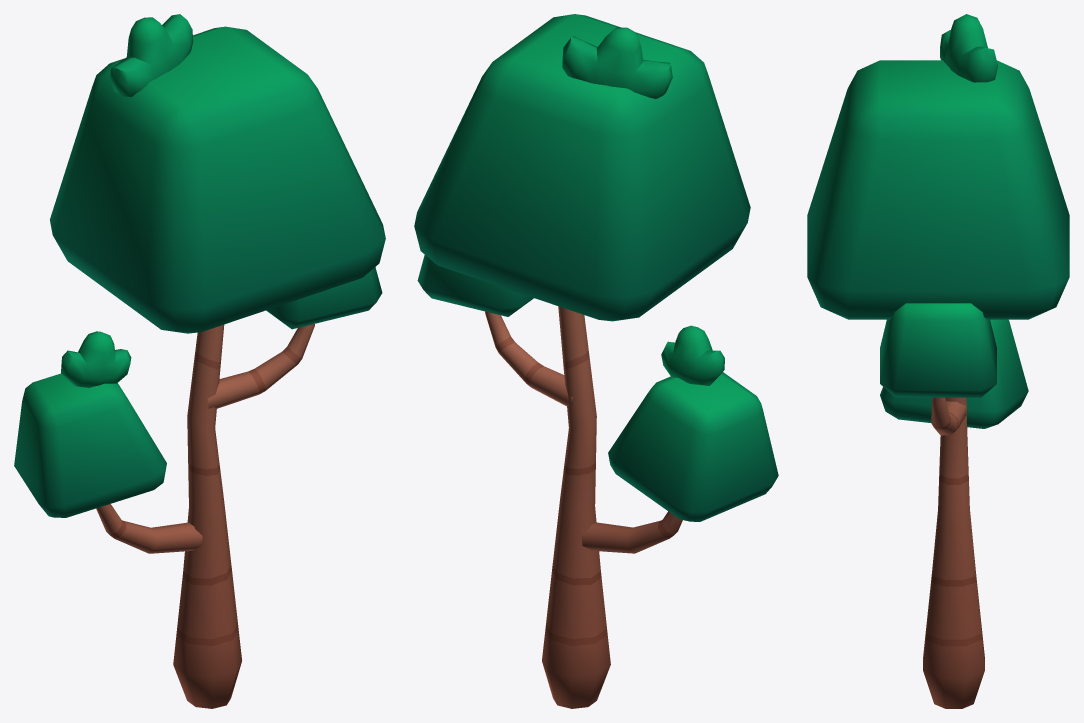
Rendered from Tree_6_B_Color2.glb.
The picture shows the model from 3 angles, left to right: view 1: azimuth 30°, elevation 25°; view 2: azimuth 150°, elevation 25°; view 3: azimuth 270°, elevation 25°; orthographic projection. The views are drawn at different scales.
Visible parts, largest first — view 1: Tree_6_B_Color2; view 2: Tree_6_B_Color2; view 3: Tree_6_B_Color2.
Part boxes in pixels (x1,y1,x2,y2): Tree_6_B_Color2: [14, 14, 385, 708]; Tree_6_B_Color2: [414, 14, 778, 708]; Tree_6_B_Color2: [807, 14, 1069, 708].
Bounding box in the file's own units: 2.75 × 5.58 × 2.
1 material, 1 textured.
